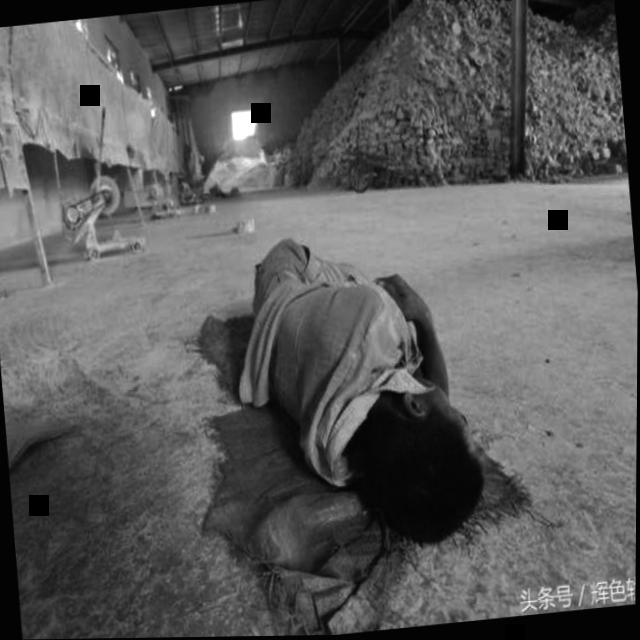Fall-Detected: (188, 205, 517, 561)
